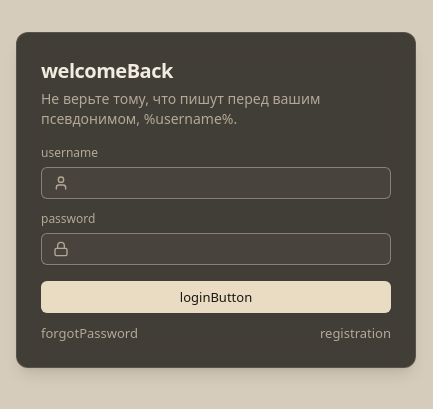
Test: Login outcomes › explains a 403 saying bad_credentials
Type "reader" into the field labelled "username" at (216, 183), box [41,167,391,199]
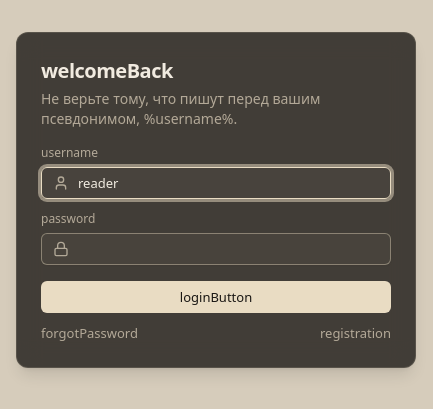
Type "secret" into the password field labelled "password" at (216, 249), box [41,233,391,265]
Then press Enter
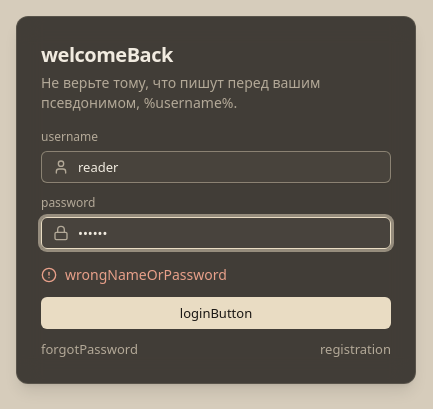
Now the message reads "wrongNameOrPassword", box [65,265,227,284]
